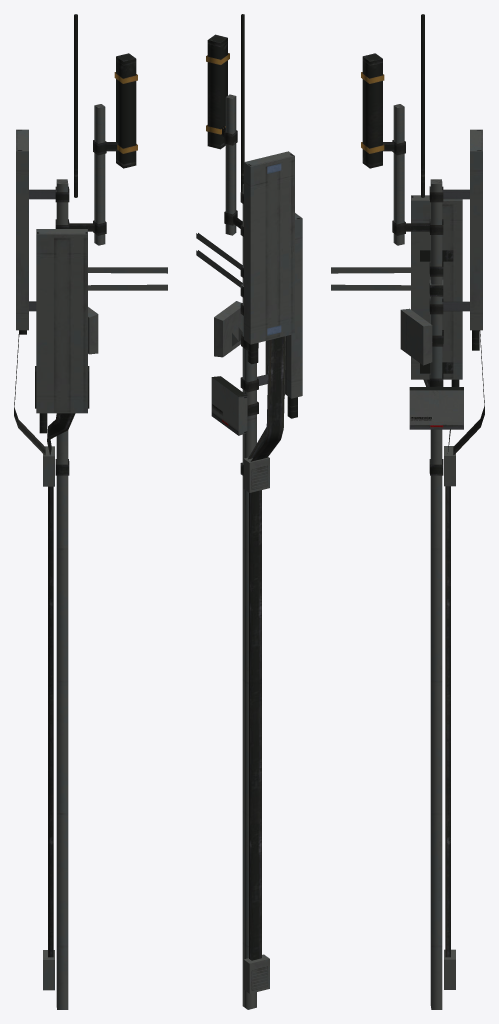
Rendered from Antenna_03_L2.fbx.
3 renders of one model, left to right at view 1: azimuth 90°, elevation 25°; view 2: azimuth 210°, elevation 25°; view 3: azimuth 270°, elevation 25°, orthographic.
Visible parts, largest first — view 1: polySurface1620; view 2: polySurface1620; view 3: polySurface1620.
Boxes of the visible parts, x1,y1,x2,y2 form: polySurface1620: (14,14,167,1009); polySurface1620: (196,14,302,1009); polySurface1620: (331,14,484,1009).
Size of the model in its own units: 48.11 by 656 by 92.13.
